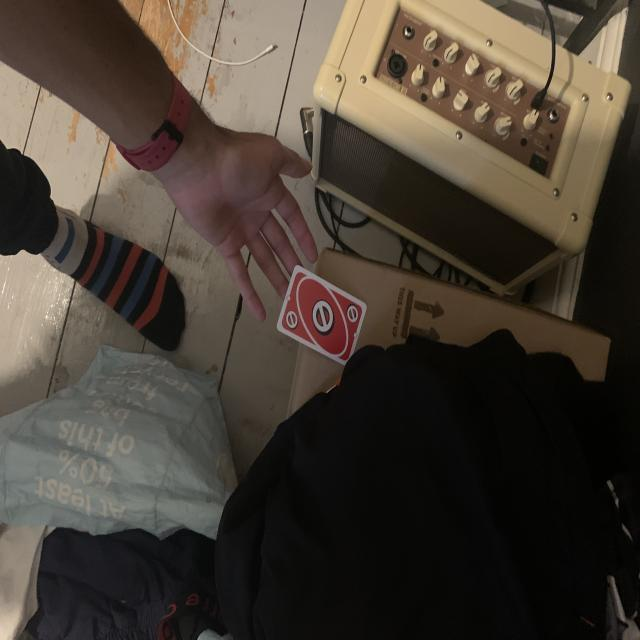lredskip-20: (344, 300, 361, 325)
